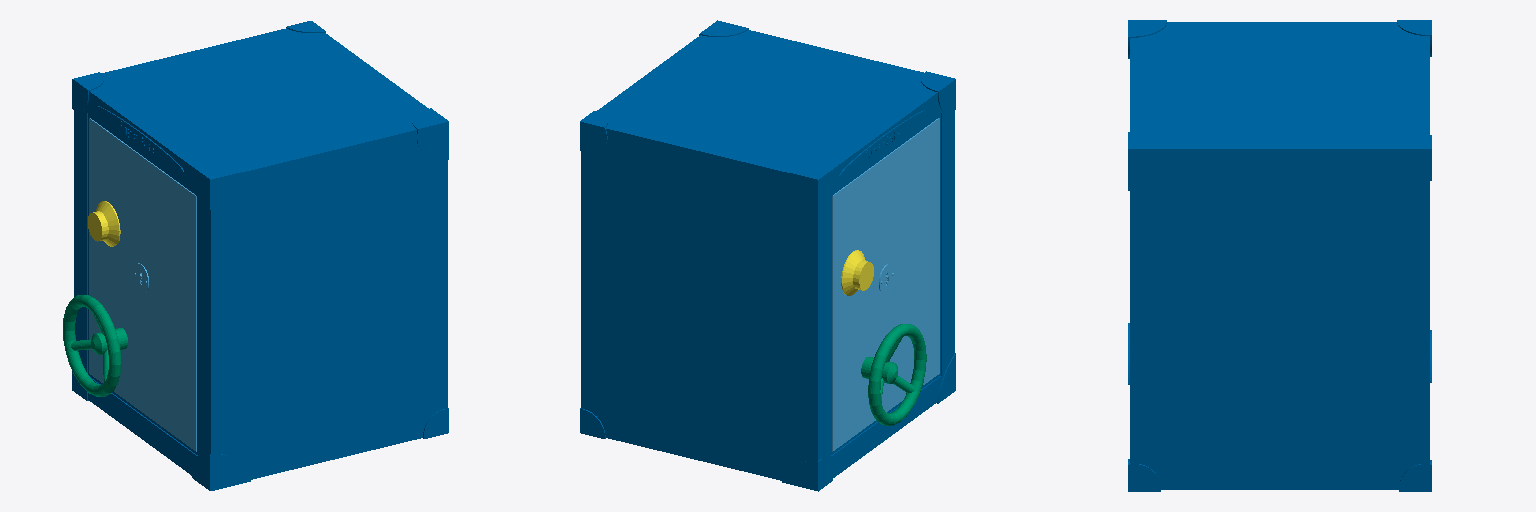
The robot description file, URDF, robot "partnet_dedb6241e35a2d5c3ab3dfa44f5fab01":
<?xml version="1.0" ?>
<robot name="partnet_dedb6241e35a2d5c3ab3dfa44f5fab01">
	<link name="base"/>
	<link name="link_0">
		<visual name="door-1">
			<origin xyz="0.40579651564569763 -0.5594859999999999 -0.5110362994262687"/>
			<geometry>
				<mesh filename="textured_objs/original-18.obj"/>
			</geometry>
		</visual>
		<visual name="door-1">
			<origin xyz="0.40579651564569763 -0.5594859999999999 -0.5110362994262687"/>
			<geometry>
				<mesh filename="textured_objs/original-21.obj"/>
			</geometry>
		</visual>
		<visual name="door-1">
			<origin xyz="0.40579651564569763 -0.5594859999999999 -0.5110362994262687"/>
			<geometry>
				<mesh filename="textured_objs/original-26.obj"/>
			</geometry>
		</visual>
		<visual name="door-1">
			<origin xyz="0.40579651564569763 -0.5594859999999999 -0.5110362994262687"/>
			<geometry>
				<mesh filename="textured_objs/original-27.obj"/>
			</geometry>
		</visual>
		<visual name="door-1">
			<origin xyz="0.40579651564569763 -0.5594859999999999 -0.5110362994262687"/>
			<geometry>
				<mesh filename="textured_objs/original-30.obj"/>
			</geometry>
		</visual>
		<visual name="door-1">
			<origin xyz="0.40579651564569763 -0.5594859999999999 -0.5110362994262687"/>
			<geometry>
				<mesh filename="textured_objs/original-28.obj"/>
			</geometry>
		</visual>
		<visual name="door-1">
			<origin xyz="0.40579651564569763 -0.5594859999999999 -0.5110362994262687"/>
			<geometry>
				<mesh filename="textured_objs/original-29.obj"/>
			</geometry>
		</visual>
		<collision>
			<origin xyz="0.40579651564569763 -0.5594859999999999 -0.5110362994262687"/>
			<geometry>
				<mesh filename="textured_objs/original-18.obj"/>
			</geometry>
		</collision>
		<collision>
			<origin xyz="0.40579651564569763 -0.5594859999999999 -0.5110362994262687"/>
			<geometry>
				<mesh filename="textured_objs/original-21.obj"/>
			</geometry>
		</collision>
		<collision>
			<origin xyz="0.40579651564569763 -0.5594859999999999 -0.5110362994262687"/>
			<geometry>
				<mesh filename="textured_objs/original-26.obj"/>
			</geometry>
		</collision>
		<collision>
			<origin xyz="0.40579651564569763 -0.5594859999999999 -0.5110362994262687"/>
			<geometry>
				<mesh filename="textured_objs/original-27.obj"/>
			</geometry>
		</collision>
		<collision>
			<origin xyz="0.40579651564569763 -0.5594859999999999 -0.5110362994262687"/>
			<geometry>
				<mesh filename="textured_objs/original-30.obj"/>
			</geometry>
		</collision>
		<collision>
			<origin xyz="0.40579651564569763 -0.5594859999999999 -0.5110362994262687"/>
			<geometry>
				<mesh filename="textured_objs/original-28.obj"/>
			</geometry>
		</collision>
		<collision>
			<origin xyz="0.40579651564569763 -0.5594859999999999 -0.5110362994262687"/>
			<geometry>
				<mesh filename="textured_objs/original-29.obj"/>
			</geometry>
		</collision>
	</link>
	<joint name="joint_0" type="revolute">
		<origin xyz="-0.40579651564569763 0.5594859999999999 0.5110362994262687"/>
		<axis xyz="0 -1 0"/>
		<child link="link_0"/>
		<parent link="link_3"/>
		<limit lower="-0.0" upper="3.0599112445964582"/>
	</joint>
	<link name="link_1">
		<visual name="switch-2">
			<origin xyz="0.1409375 0.28376914459432323 0"/>
			<geometry>
				<mesh filename="textured_objs/original-2.obj"/>
			</geometry>
		</visual>
		<visual name="switch-2">
			<origin xyz="0.1409375 0.28376914459432323 0"/>
			<geometry>
				<mesh filename="textured_objs/original-6.obj"/>
			</geometry>
		</visual>
		<visual name="switch-2">
			<origin xyz="0.1409375 0.28376914459432323 0"/>
			<geometry>
				<mesh filename="textured_objs/original-4.obj"/>
			</geometry>
		</visual>
		<visual name="switch-2">
			<origin xyz="0.1409375 0.28376914459432323 0"/>
			<geometry>
				<mesh filename="textured_objs/original-3.obj"/>
			</geometry>
		</visual>
		<visual name="switch-2">
			<origin xyz="0.1409375 0.28376914459432323 0"/>
			<geometry>
				<mesh filename="textured_objs/original-5.obj"/>
			</geometry>
		</visual>
		<collision>
			<origin xyz="0.1409375 0.28376914459432323 0"/>
			<geometry>
				<mesh filename="textured_objs/original-2.obj"/>
			</geometry>
		</collision>
		<collision>
			<origin xyz="0.1409375 0.28376914459432323 0"/>
			<geometry>
				<mesh filename="textured_objs/original-6.obj"/>
			</geometry>
		</collision>
		<collision>
			<origin xyz="0.1409375 0.28376914459432323 0"/>
			<geometry>
				<mesh filename="textured_objs/original-4.obj"/>
			</geometry>
		</collision>
		<collision>
			<origin xyz="0.1409375 0.28376914459432323 0"/>
			<geometry>
				<mesh filename="textured_objs/original-3.obj"/>
			</geometry>
		</collision>
		<collision>
			<origin xyz="0.1409375 0.28376914459432323 0"/>
			<geometry>
				<mesh filename="textured_objs/original-5.obj"/>
			</geometry>
		</collision>
	</link>
	<joint name="joint_1" type="continuous">
		<origin xyz="0.26485901564569764 -0.8432551445943232 -0.5110362994262687"/>
		<axis xyz="0 0 1"/>
		<child link="link_1"/>
		<parent link="link_0"/>
	</joint>
	<link name="link_2">
		<visual name="switch-7">
			<origin xyz="0.24937739713840015 -0.16632382643041485 0"/>
			<geometry>
				<mesh filename="textured_objs/original-24.obj"/>
			</geometry>
		</visual>
		<collision>
			<origin xyz="0.24937739713840015 -0.16632382643041485 0"/>
			<geometry>
				<mesh filename="textured_objs/original-24.obj"/>
			</geometry>
		</collision>
	</link>
	<joint name="joint_2" type="continuous">
		<origin xyz="0.15641911850729748 -0.39316217356958505 -0.5110362994262687"/>
		<axis xyz="0 0 -1"/>
		<child link="link_2"/>
		<parent link="link_0"/>
	</joint>
	<link name="link_3">
		<visual name="base_body-8">
			<origin xyz="0 0 0"/>
			<geometry>
				<mesh filename="textured_objs/original-36.obj"/>
			</geometry>
		</visual>
		<visual name="base_body-8">
			<origin xyz="0 0 0"/>
			<geometry>
				<mesh filename="textured_objs/original-22.obj"/>
			</geometry>
		</visual>
		<visual name="base_body-8">
			<origin xyz="0 0 0"/>
			<geometry>
				<mesh filename="textured_objs/original-33.obj"/>
			</geometry>
		</visual>
		<visual name="base_body-8">
			<origin xyz="0 0 0"/>
			<geometry>
				<mesh filename="textured_objs/original-16.obj"/>
			</geometry>
		</visual>
		<visual name="base_body-8">
			<origin xyz="0 0 0"/>
			<geometry>
				<mesh filename="textured_objs/original-8.obj"/>
			</geometry>
		</visual>
		<visual name="base_body-8">
			<origin xyz="0 0 0"/>
			<geometry>
				<mesh filename="textured_objs/original-13.obj"/>
			</geometry>
		</visual>
		<visual name="base_body-8">
			<origin xyz="0 0 0"/>
			<geometry>
				<mesh filename="textured_objs/original-9.obj"/>
			</geometry>
		</visual>
		<visual name="base_body-8">
			<origin xyz="0 0 0"/>
			<geometry>
				<mesh filename="textured_objs/original-35.obj"/>
			</geometry>
		</visual>
		<visual name="base_body-8">
			<origin xyz="0 0 0"/>
			<geometry>
				<mesh filename="textured_objs/original-31.obj"/>
			</geometry>
		</visual>
		<visual name="base_body-8">
			<origin xyz="0 0 0"/>
			<geometry>
				<mesh filename="textured_objs/original-37.obj"/>
			</geometry>
		</visual>
		<visual name="base_body-8">
			<origin xyz="0 0 0"/>
			<geometry>
				<mesh filename="textured_objs/original-15.obj"/>
			</geometry>
		</visual>
		<visual name="base_body-8">
			<origin xyz="0 0 0"/>
			<geometry>
				<mesh filename="textured_objs/original-23.obj"/>
			</geometry>
		</visual>
		<visual name="base_body-8">
			<origin xyz="0 0 0"/>
			<geometry>
				<mesh filename="textured_objs/original-11.obj"/>
			</geometry>
		</visual>
		<visual name="base_body-8">
			<origin xyz="0 0 0"/>
			<geometry>
				<mesh filename="textured_objs/original-38.obj"/>
			</geometry>
		</visual>
		<visual name="base_body-8">
			<origin xyz="0 0 0"/>
			<geometry>
				<mesh filename="textured_objs/original-34.obj"/>
			</geometry>
		</visual>
		<visual name="base_body-8">
			<origin xyz="0 0 0"/>
			<geometry>
				<mesh filename="textured_objs/original-25.obj"/>
			</geometry>
		</visual>
		<visual name="base_body-8">
			<origin xyz="0 0 0"/>
			<geometry>
				<mesh filename="textured_objs/original-12.obj"/>
			</geometry>
		</visual>
		<visual name="base_body-8">
			<origin xyz="0 0 0"/>
			<geometry>
				<mesh filename="textured_objs/original-20.obj"/>
			</geometry>
		</visual>
		<visual name="base_body-8">
			<origin xyz="0 0 0"/>
			<geometry>
				<mesh filename="textured_objs/original-32.obj"/>
			</geometry>
		</visual>
		<visual name="base_body-8">
			<origin xyz="0 0 0"/>
			<geometry>
				<mesh filename="textured_objs/original-10.obj"/>
			</geometry>
		</visual>
		<visual name="base_body-8">
			<origin xyz="0 0 0"/>
			<geometry>
				<mesh filename="textured_objs/original-14.obj"/>
			</geometry>
		</visual>
		<visual name="base_body-8">
			<origin xyz="0 0 0"/>
			<geometry>
				<mesh filename="textured_objs/original-19.obj"/>
			</geometry>
		</visual>
		<collision>
			<origin xyz="0 0 0"/>
			<geometry>
				<mesh filename="textured_objs/original-36.obj"/>
			</geometry>
		</collision>
		<collision>
			<origin xyz="0 0 0"/>
			<geometry>
				<mesh filename="textured_objs/original-22.obj"/>
			</geometry>
		</collision>
		<collision>
			<origin xyz="0 0 0"/>
			<geometry>
				<mesh filename="textured_objs/original-33.obj"/>
			</geometry>
		</collision>
		<collision>
			<origin xyz="0 0 0"/>
			<geometry>
				<mesh filename="textured_objs/original-16.obj"/>
			</geometry>
		</collision>
		<collision>
			<origin xyz="0 0 0"/>
			<geometry>
				<mesh filename="textured_objs/original-8.obj"/>
			</geometry>
		</collision>
		<collision>
			<origin xyz="0 0 0"/>
			<geometry>
				<mesh filename="textured_objs/original-13.obj"/>
			</geometry>
		</collision>
		<collision>
			<origin xyz="0 0 0"/>
			<geometry>
				<mesh filename="textured_objs/original-9.obj"/>
			</geometry>
		</collision>
		<collision>
			<origin xyz="0 0 0"/>
			<geometry>
				<mesh filename="textured_objs/original-35.obj"/>
			</geometry>
		</collision>
		<collision>
			<origin xyz="0 0 0"/>
			<geometry>
				<mesh filename="textured_objs/original-31.obj"/>
			</geometry>
		</collision>
		<collision>
			<origin xyz="0 0 0"/>
			<geometry>
				<mesh filename="textured_objs/original-37.obj"/>
			</geometry>
		</collision>
		<collision>
			<origin xyz="0 0 0"/>
			<geometry>
				<mesh filename="textured_objs/original-15.obj"/>
			</geometry>
		</collision>
		<collision>
			<origin xyz="0 0 0"/>
			<geometry>
				<mesh filename="textured_objs/original-23.obj"/>
			</geometry>
		</collision>
		<collision>
			<origin xyz="0 0 0"/>
			<geometry>
				<mesh filename="textured_objs/original-11.obj"/>
			</geometry>
		</collision>
		<collision>
			<origin xyz="0 0 0"/>
			<geometry>
				<mesh filename="textured_objs/original-38.obj"/>
			</geometry>
		</collision>
		<collision>
			<origin xyz="0 0 0"/>
			<geometry>
				<mesh filename="textured_objs/original-34.obj"/>
			</geometry>
		</collision>
		<collision>
			<origin xyz="0 0 0"/>
			<geometry>
				<mesh filename="textured_objs/original-25.obj"/>
			</geometry>
		</collision>
		<collision>
			<origin xyz="0 0 0"/>
			<geometry>
				<mesh filename="textured_objs/original-12.obj"/>
			</geometry>
		</collision>
		<collision>
			<origin xyz="0 0 0"/>
			<geometry>
				<mesh filename="textured_objs/original-20.obj"/>
			</geometry>
		</collision>
		<collision>
			<origin xyz="0 0 0"/>
			<geometry>
				<mesh filename="textured_objs/original-32.obj"/>
			</geometry>
		</collision>
		<collision>
			<origin xyz="0 0 0"/>
			<geometry>
				<mesh filename="textured_objs/original-10.obj"/>
			</geometry>
		</collision>
		<collision>
			<origin xyz="0 0 0"/>
			<geometry>
				<mesh filename="textured_objs/original-14.obj"/>
			</geometry>
		</collision>
		<collision>
			<origin xyz="0 0 0"/>
			<geometry>
				<mesh filename="textured_objs/original-19.obj"/>
			</geometry>
		</collision>
	</link>
	<joint name="joint_3" type="fixed">
		<origin rpy="1.570796326794897 0 -1.570796326794897" xyz="0 0 0"/>
		<child link="link_3"/>
		<parent link="base"/>
	</joint>
</robot>

--- Facts derived from the render (not from the file) ---
Views: 3 orthographic renders of the robot side by side, from view 1: azimuth 30°, elevation 25°; view 2: azimuth 150°, elevation 25°; view 3: azimuth 270°, elevation 25°.
Model partnet_dedb6241e35a2d5c3ab3dfa44f5fab01 with 5 links and 4 joints (1 revolute, 2 continuous, 1 fixed), rooted at base, posed every joint at zero.
Visible links, largest first — view 1: link_3, link_0, link_1, link_2; view 2: link_3, link_0, link_1, link_2; view 3: link_3.
Boxes of the visible links, left/top/right/bottom form: link_3: left=72, top=21, right=448, bottom=490; link_0: left=89, top=118, right=196, bottom=451; link_1: left=63, top=295, right=127, bottom=396; link_2: left=88, top=201, right=120, bottom=246; link_3: left=580, top=20, right=955, bottom=491; link_0: left=832, top=118, right=939, bottom=451; link_1: left=861, top=324, right=926, bottom=425; link_2: left=841, top=250, right=873, bottom=295; link_3: left=1128, top=20, right=1431, bottom=491.
Bounding box of the posed robot: 1.24 × 1.08 × 1.34 m (x, y, z).
Meshes: 35 distinct files referenced, 35 mesh visuals loaded (35 OBJ).